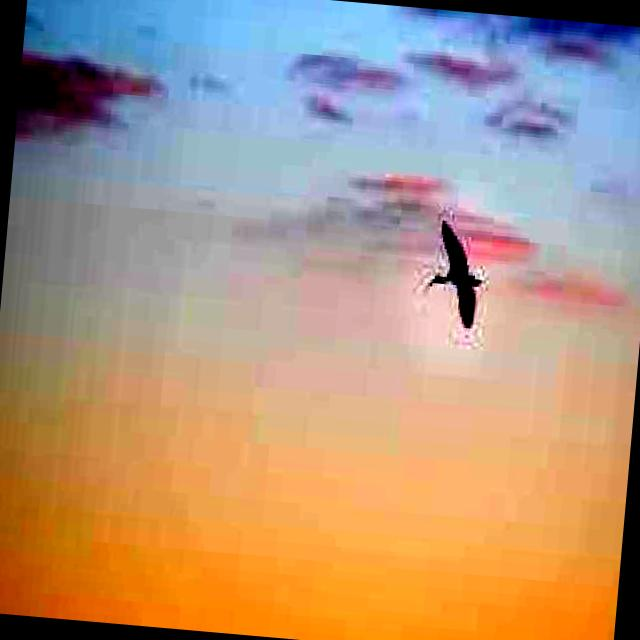bird: (418, 212, 488, 338)
